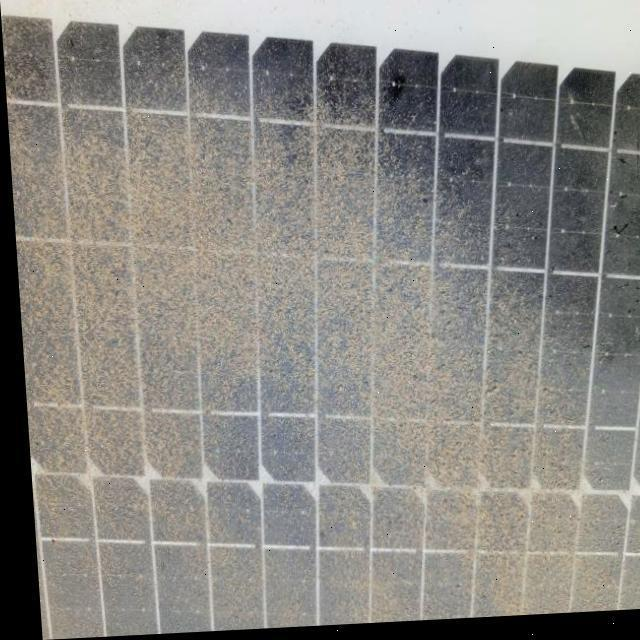Surface Contaminant: (8, 56, 640, 639)
